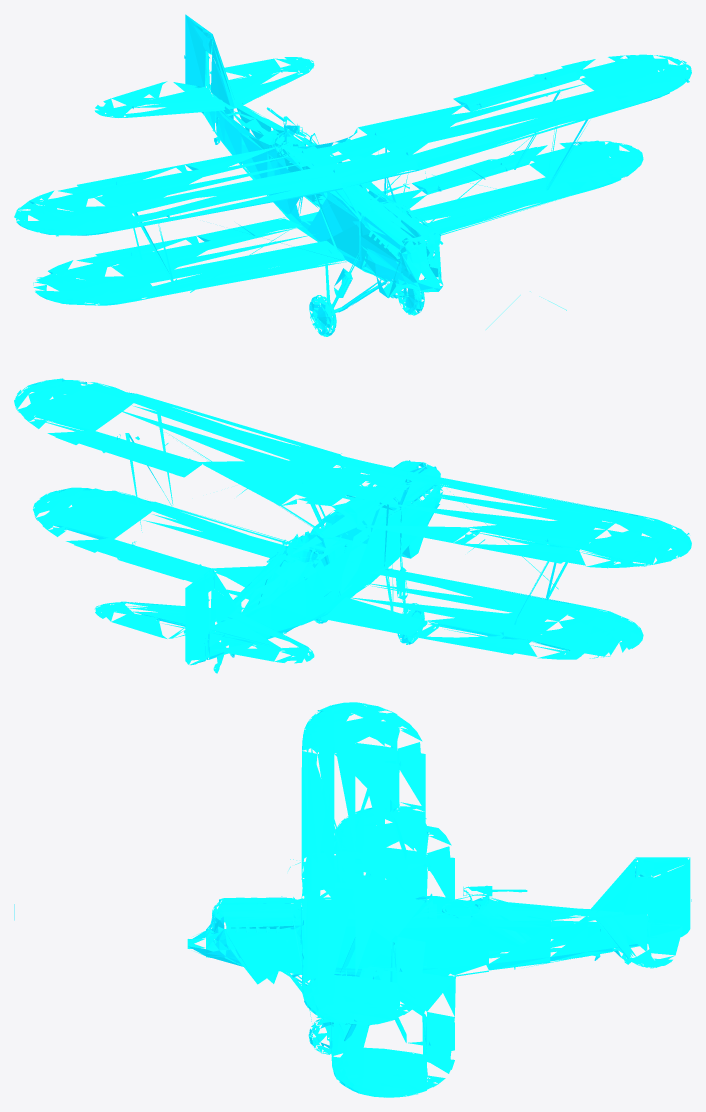
File: PRAD301.glb
The picture shows the model from 3 angles, top to bottom: view 1: azimuth 30°, elevation 25°; view 2: azimuth 150°, elevation 25°; view 3: azimuth 270°, elevation 25°; orthographic projection.
Parts seen in each view (by area): view 1: misc; view 2: misc; view 3: misc.
Boxes of the visible parts, bbox=[...] form: misc: bbox=[14, 14, 691, 336]; misc: bbox=[14, 378, 691, 673]; misc: bbox=[14, 702, 691, 1097].
Size of the model in its own units: 0.8669 by 0.2211 by 0.7704.
